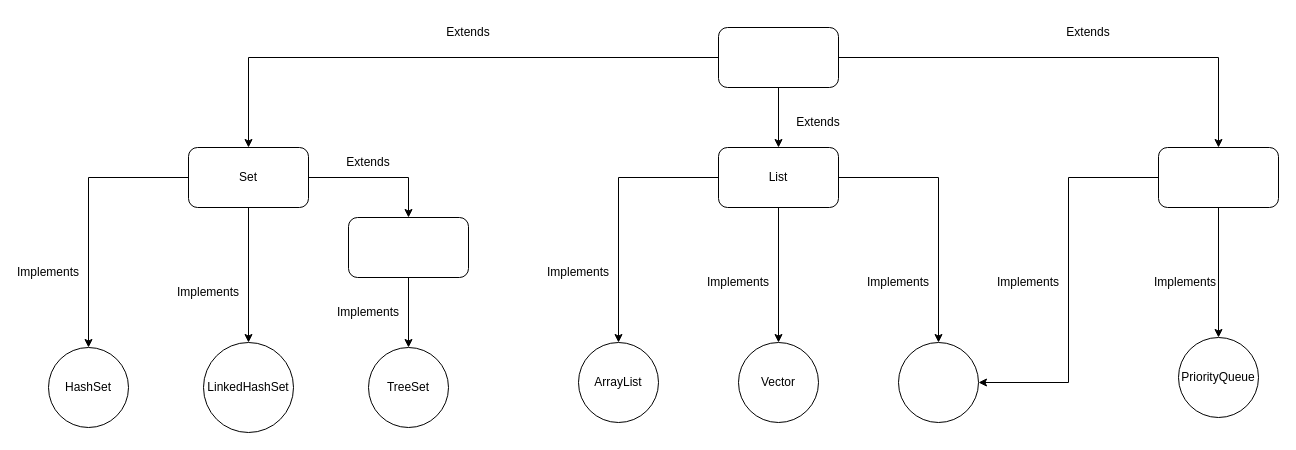
Image size: 1296x450. Some labels were removed from this diagram. Each missing label, with the centre of its shape:
"Collection" belongs at (x=778, y=57).
"LinkedList" belongs at (x=938, y=382).
"Queue" belongs at (x=1218, y=177).
"SortedSet" belongs at (x=408, y=247).
